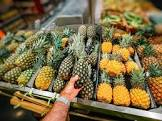Pineapple: (14, 36, 51, 68), (34, 53, 57, 89), (129, 71, 150, 109), (71, 48, 90, 86)
